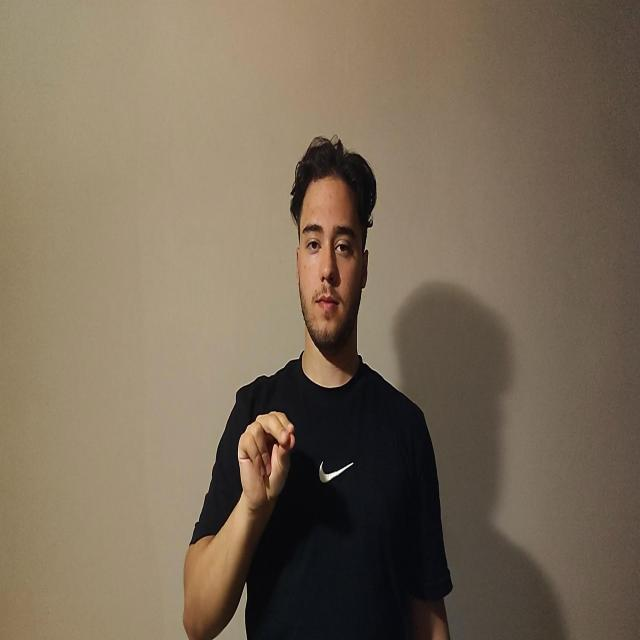no: (237, 409, 295, 512)
